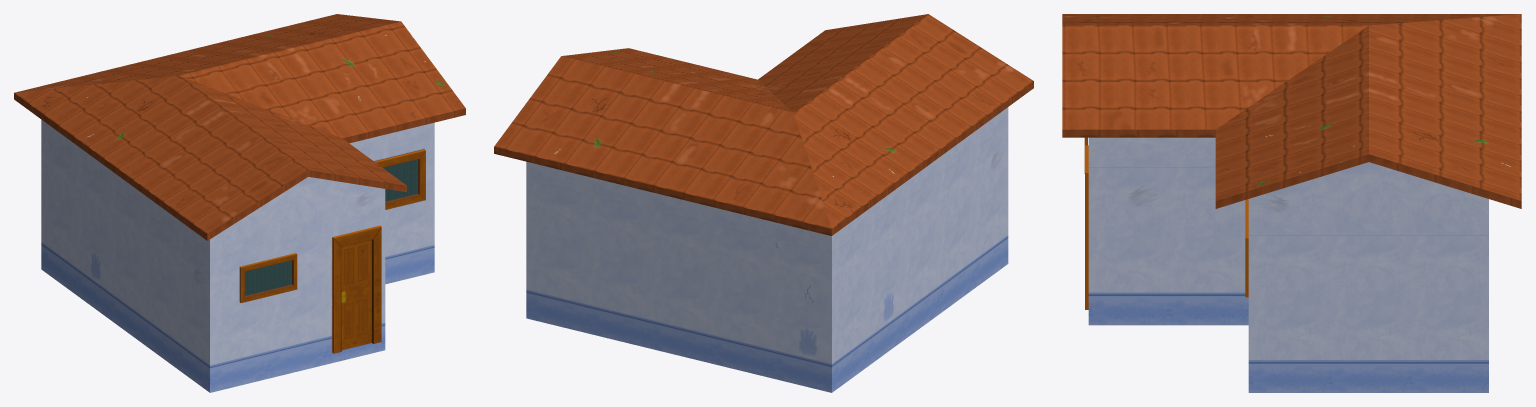
The model's file is Houses_SuburbanHouseWhite3.fbx.
The picture shows the model from 3 angles, left to right: view 1: azimuth 30°, elevation 25°; view 2: azimuth 150°, elevation 25°; view 3: azimuth 270°, elevation 25°; orthographic projection. The views are drawn at different scales.
Visible parts, largest first — view 1: House3.2; view 2: House3.2; view 3: House3.2.
Part boxes in pixels (x1=…): House3.2: x1=14, y1=14, x2=465, y2=392; House3.2: x1=494, y1=14, x2=1033, y2=392; House3.2: x1=1062, y1=14, x2=1521, y2=392.
Size of the model in its own units: 512 by 318 by 531.
1 material, 1 textured.
